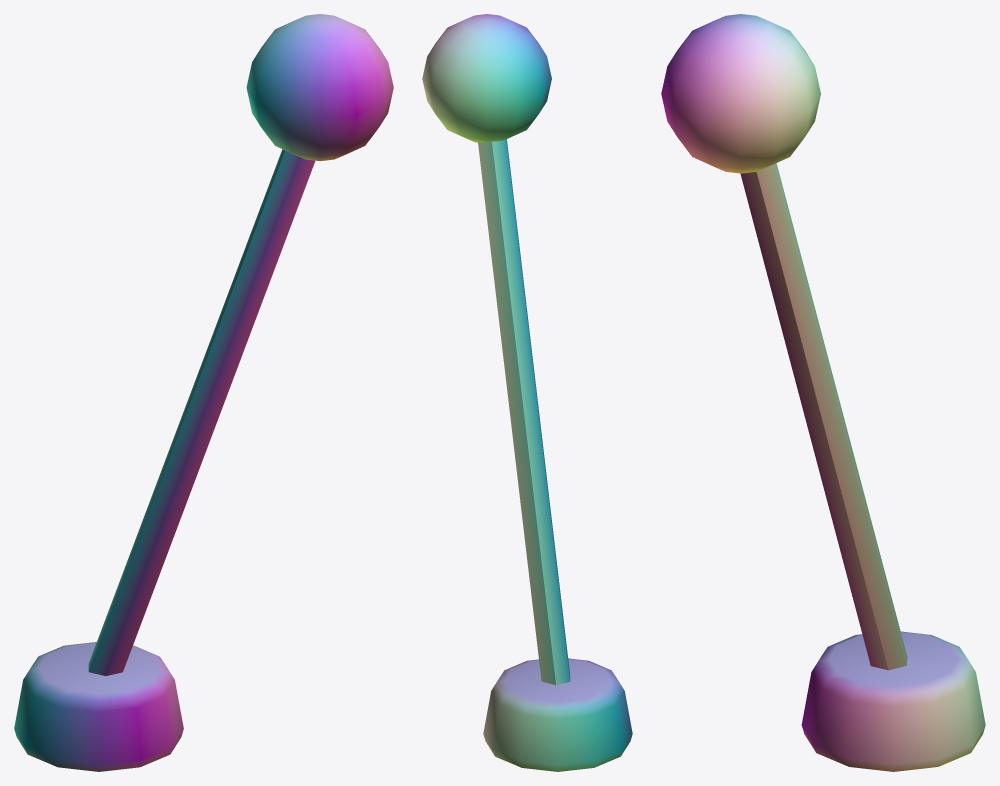
The model's file is acc_antenna.glb.
The picture shows the model from 3 angles, left to right: view 1: azimuth 30°, elevation 25°; view 2: azimuth 150°, elevation 25°; view 3: azimuth 270°, elevation 25°; orthographic projection. The views are drawn at different scales.
Parts seen in each view (by area): view 1: antenna; view 2: antenna; view 3: antenna.
Boxes of the visible parts, <box> form: antenna: <box>14,14,393,771</box>; antenna: <box>422,14,632,771</box>; antenna: <box>661,14,985,771</box>.
Bounding box in the file's own units: 0.0497 × 0.121 × 0.0447.
